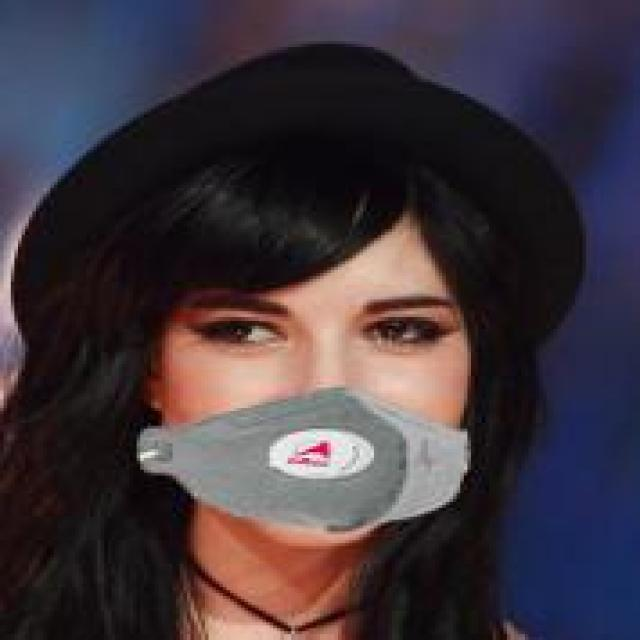mask: (76, 91, 536, 581)
